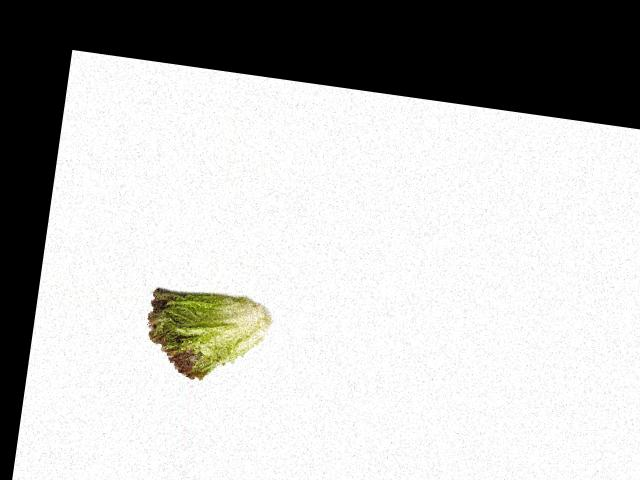lettuce: (138, 286, 273, 387)
